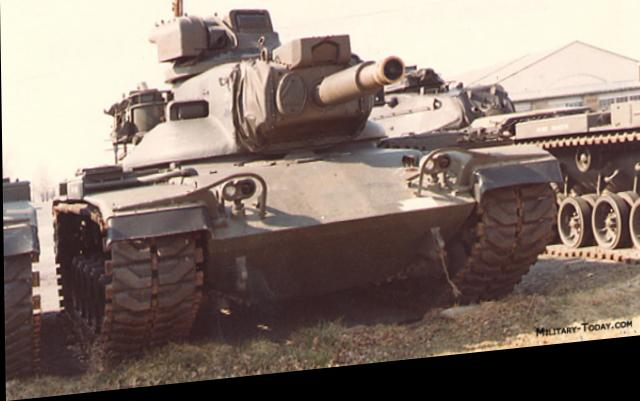tank: (46, 0, 557, 347)
